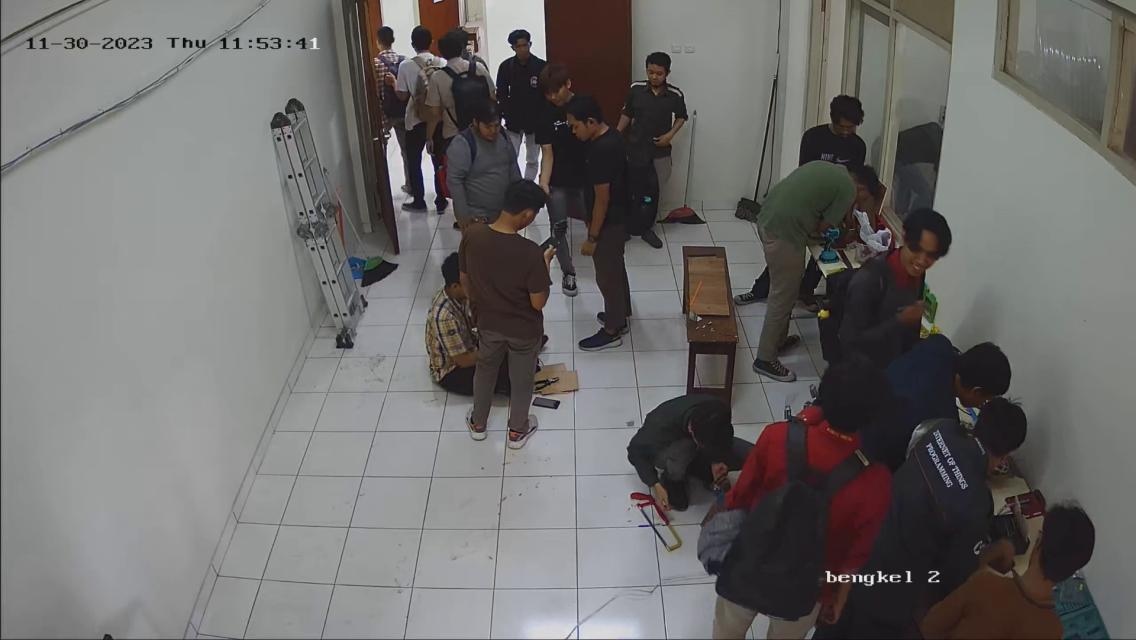Crowd: (364, 16, 700, 437)
